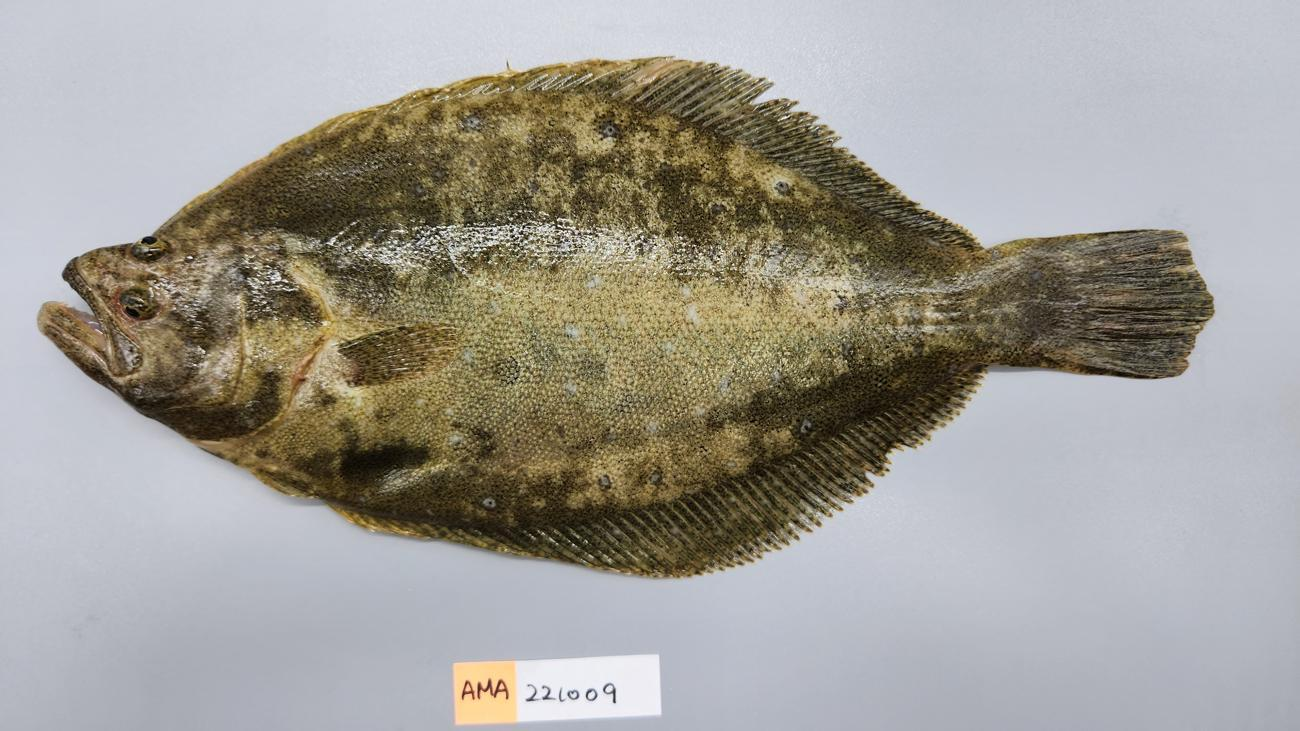MAFCH: (1079, 267, 1216, 337)
MAOUY: (36, 55, 1218, 576)
